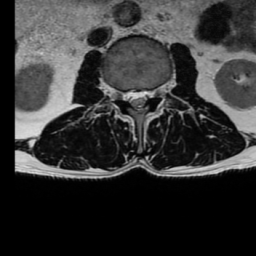CCS_normal: (134, 81, 141, 117)
LFS_normal: (149, 79, 158, 105)
LLS_normal: (141, 80, 149, 111)
RFS_normal: (118, 80, 126, 108)
RLS_normal: (126, 81, 134, 111)
